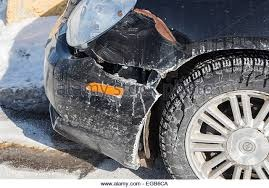Dent: (62, 45, 170, 102)
